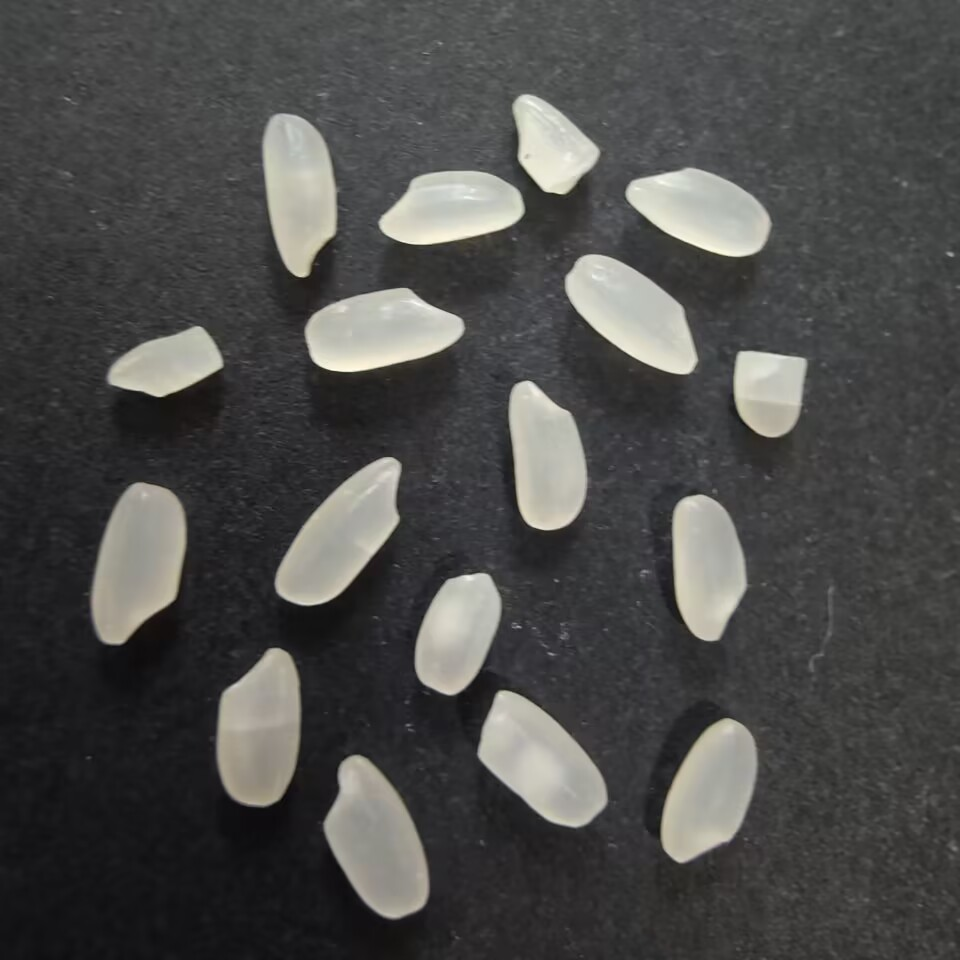broken: (506, 92, 606, 195), (103, 319, 225, 403), (729, 344, 811, 441)
rice: (268, 451, 405, 606), (319, 755, 435, 925), (476, 689, 610, 827), (559, 247, 697, 378), (89, 475, 188, 650), (210, 638, 306, 817), (299, 283, 469, 376), (658, 713, 760, 867), (258, 109, 345, 279), (620, 166, 775, 261), (667, 488, 754, 647), (508, 374, 593, 536), (375, 164, 531, 245), (415, 567, 503, 698)
